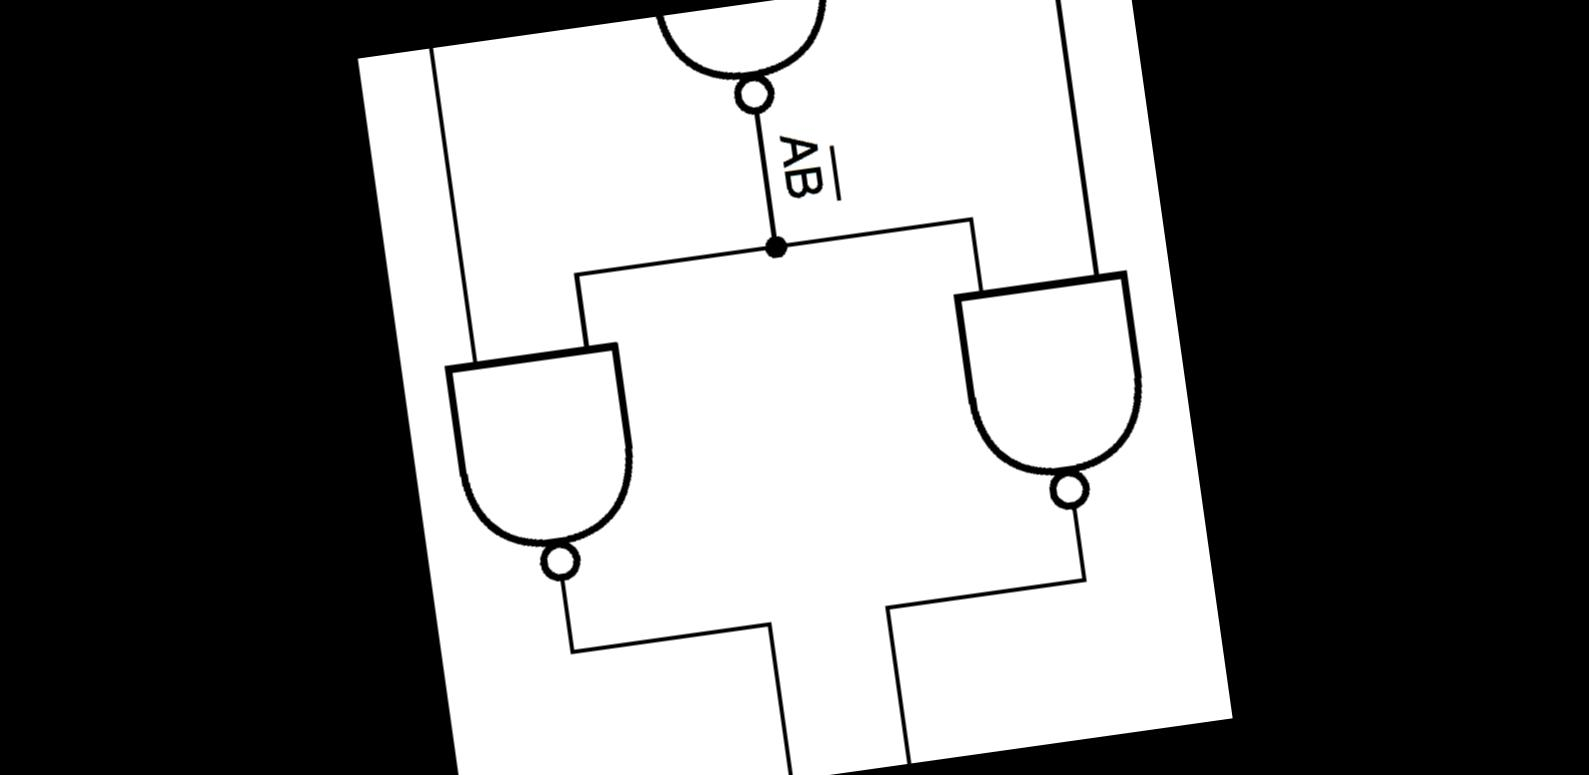nand: (925, 244, 1175, 543), (428, 324, 664, 610), (641, 0, 862, 141)
